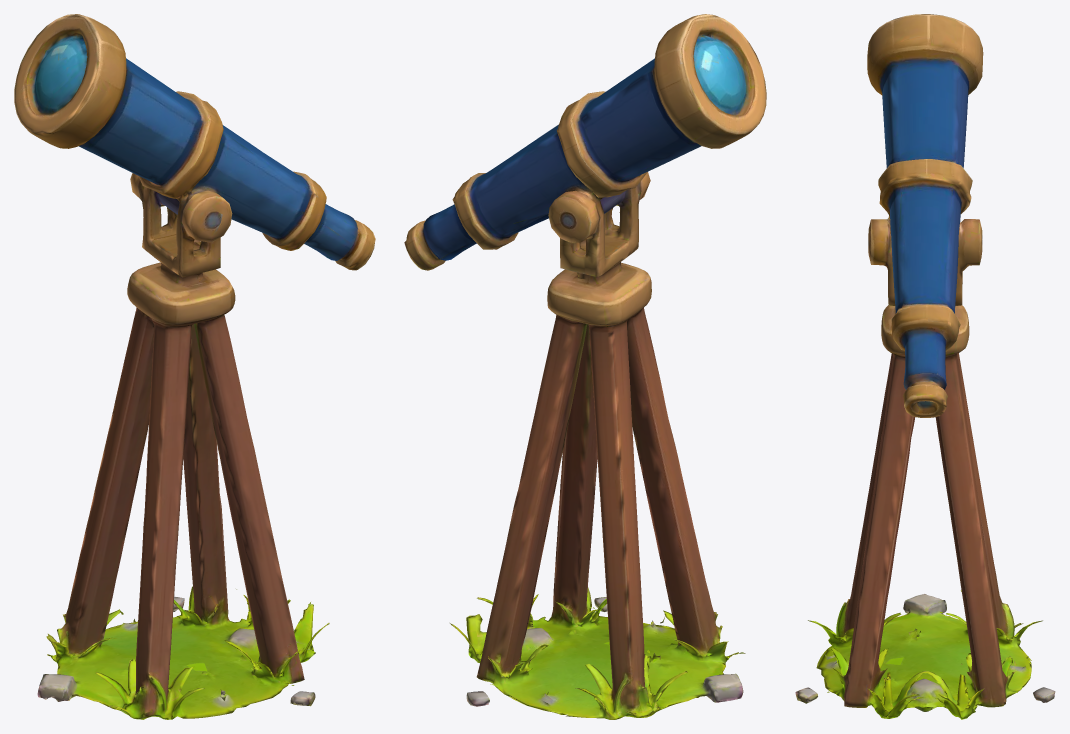
Rendered from telescope.glb.
The picture shows the model from 3 angles, left to right: view 1: azimuth 30°, elevation 25°; view 2: azimuth 150°, elevation 25°; view 3: azimuth 270°, elevation 25°; orthographic projection. The views are drawn at different scales.
Parts seen in each view (by area): view 1: mesh_node; view 2: mesh_node; view 3: mesh_node.
Boxes of the visible parts, <box> form: mesh_node: <box>14,14,375,719</box>; mesh_node: <box>404,14,766,719</box>; mesh_node: <box>795,14,1055,719</box>.
Size of the model in its own units: 0.5312 by 1 by 0.3816.
Materials: 1 (1 with a texture image).
